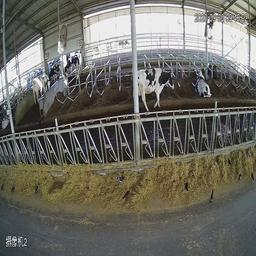cow: (144, 65, 190, 115), (195, 63, 212, 99), (39, 63, 52, 106), (32, 73, 43, 109)
